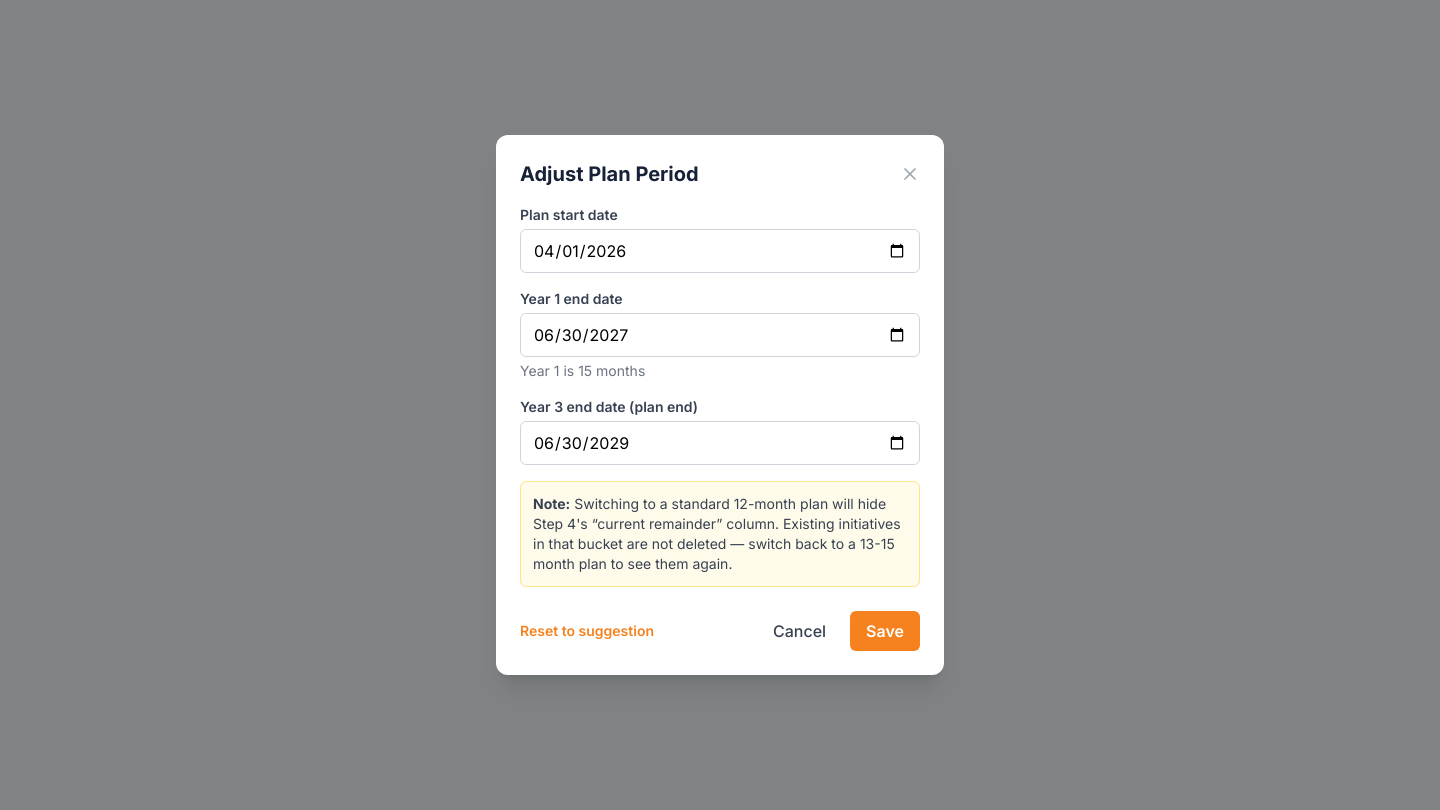
Test: PlanPeriodAdjustModal › shows validation error and disables Save when Year 1 length goes outside [12, 15]
// Push year1End to 2028-01-31 — way out of range (year1Months becomes ~22)
Type "2028-01-31" into the date field below "Year 1 end date" at [720, 335], box [520, 313, 920, 357]
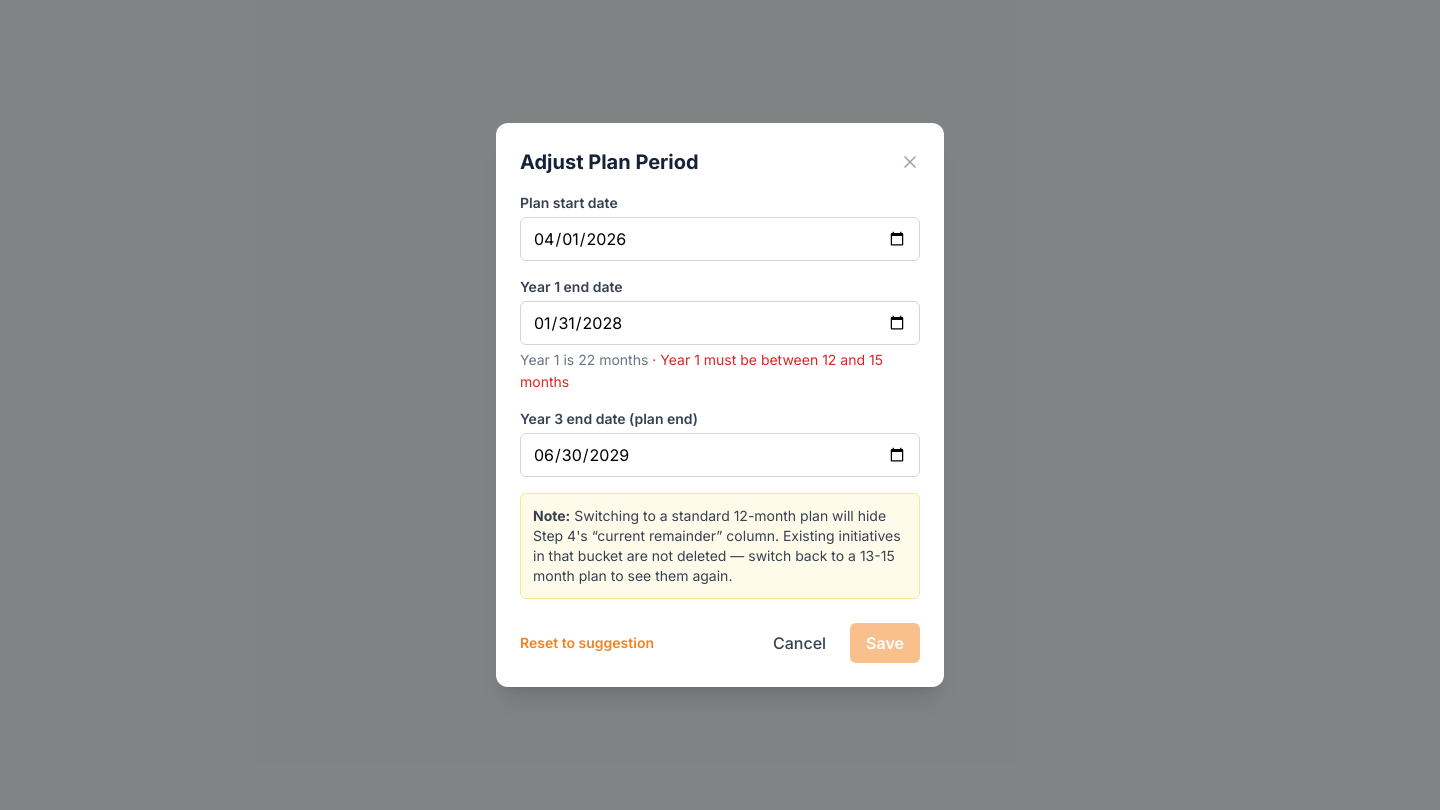
Check: the text "· Year 1 must be between 12 and 15 months" is shown, box [520, 351, 883, 390]
Check: the button "Save" is disabled, box [850, 623, 920, 663]
